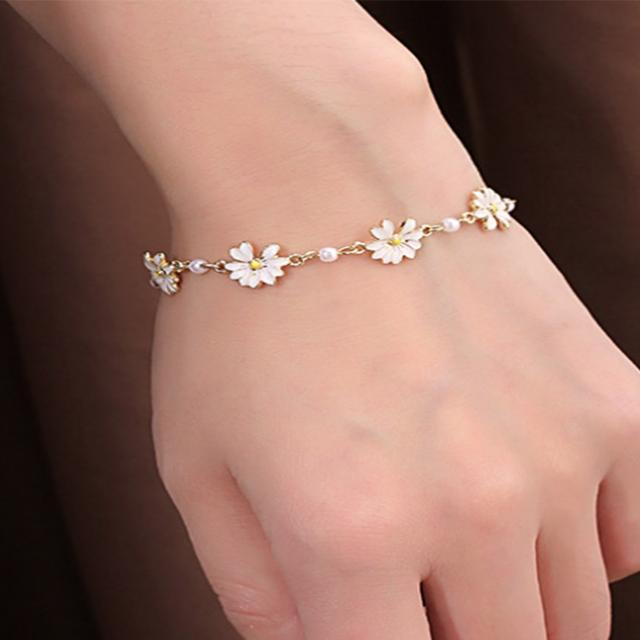bracelet: (48, 167, 624, 323)
